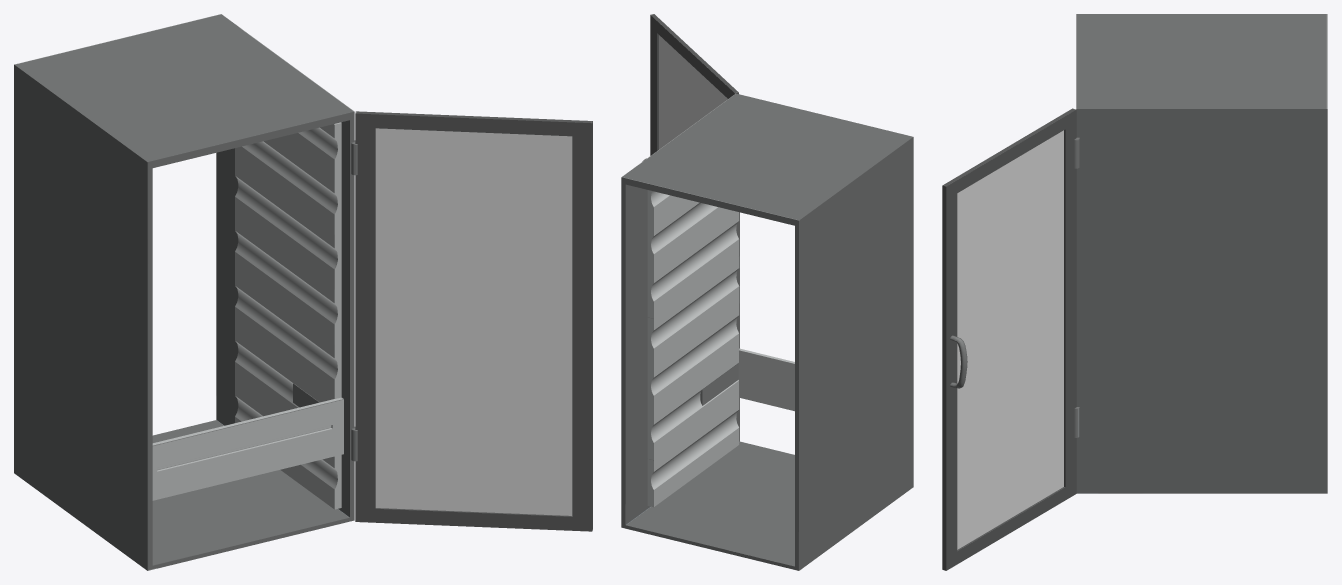
The model's file is Rack.fbx.
The picture shows the model from 3 angles, left to right: view 1: azimuth 30°, elevation 25°; view 2: azimuth 150°, elevation 25°; view 3: azimuth 270°, elevation 25°; orthographic projection. The views are drawn at different scales.
Visible parts, largest first — view 1: Rack, Door, Array Cover; view 2: Rack, Door, Array Cover; view 3: Rack, Door.
Boxes of the visible parts, x1=… form: Rack: x1=14, y1=14, x2=357, y2=570; Door: x1=355, y1=111, x2=592, y2=531; Array Cover: x1=152, y1=383, x2=343, y2=500; Rack: x1=621, y1=93, x2=913, y2=570; Door: x1=642, y1=14, x2=738, y2=161; Array Cover: x1=700, y1=348, x2=794, y2=411; Rack: x1=1074, y1=14, x2=1327, y2=493; Door: x1=942, y1=108, x2=1076, y2=570.
Size of the model in its own units: 1846 by 1896 by 1721.
